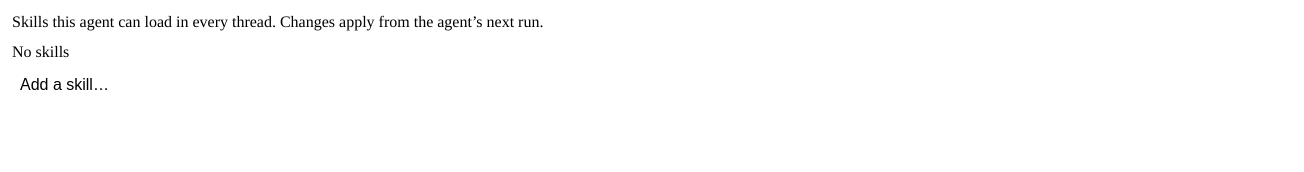
AgentSkillsSection › filters by slug, name or description as you type
In the dropdown named "Add to Agent skills": [652, 85] box left=12, top=71, right=1292, bottom=99, type "rev"
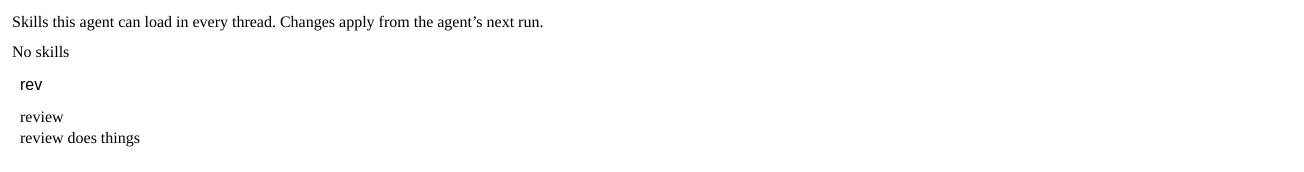
Result: the option shows "review" at left=20, top=109, right=140, bottom=147
Replace the text in the dropdown named "Add to Agent skills" with "ship": [652, 85] box left=12, top=71, right=1292, bottom=99
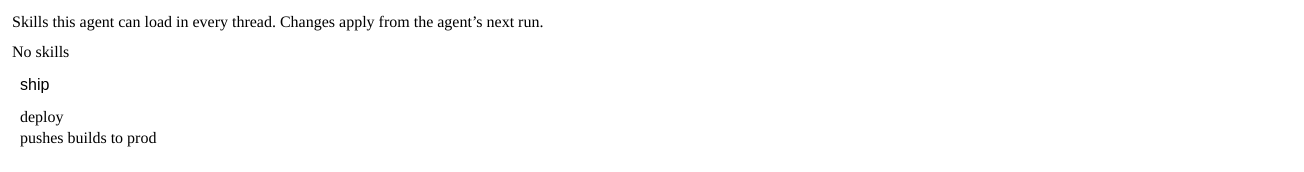
Result: the option shows "deploy" at left=20, top=109, right=156, bottom=147
Replace the text in the dropdown named "Add to Agent skills" with "PROD": [652, 85] box left=12, top=71, right=1292, bottom=99
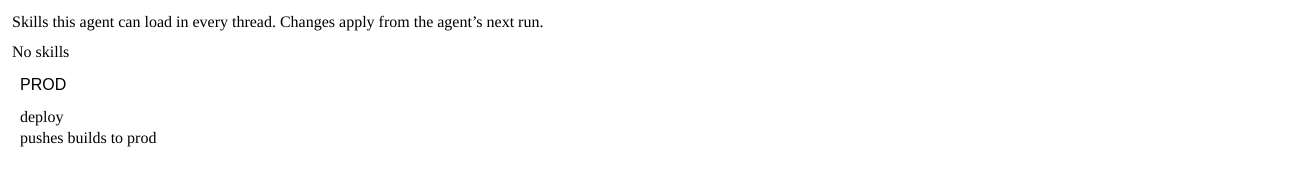
Result: the option shows "deploy" at left=20, top=109, right=156, bottom=147
Replace the text in the dropdown named "Add to Agent skills" with "zzz": [652, 85] box left=12, top=71, right=1292, bottom=99
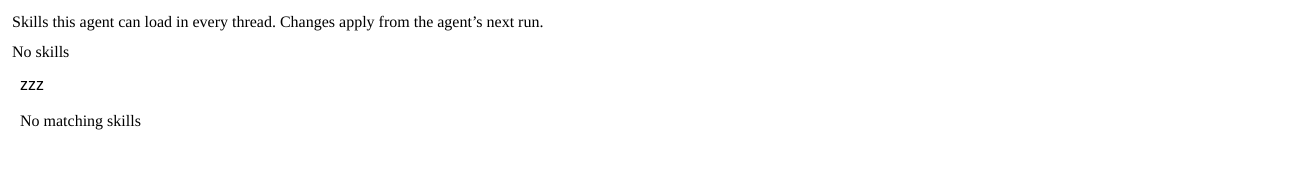
Result: the text "No matching skills" is shown at left=20, top=113, right=141, bottom=130
